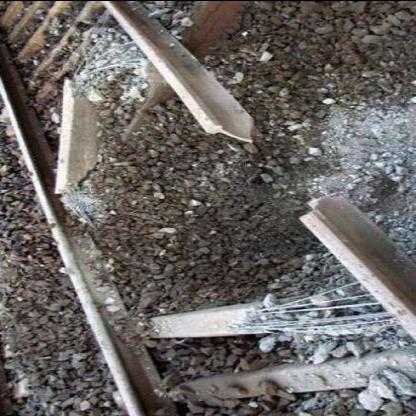Defective: (1, 14, 415, 393)
